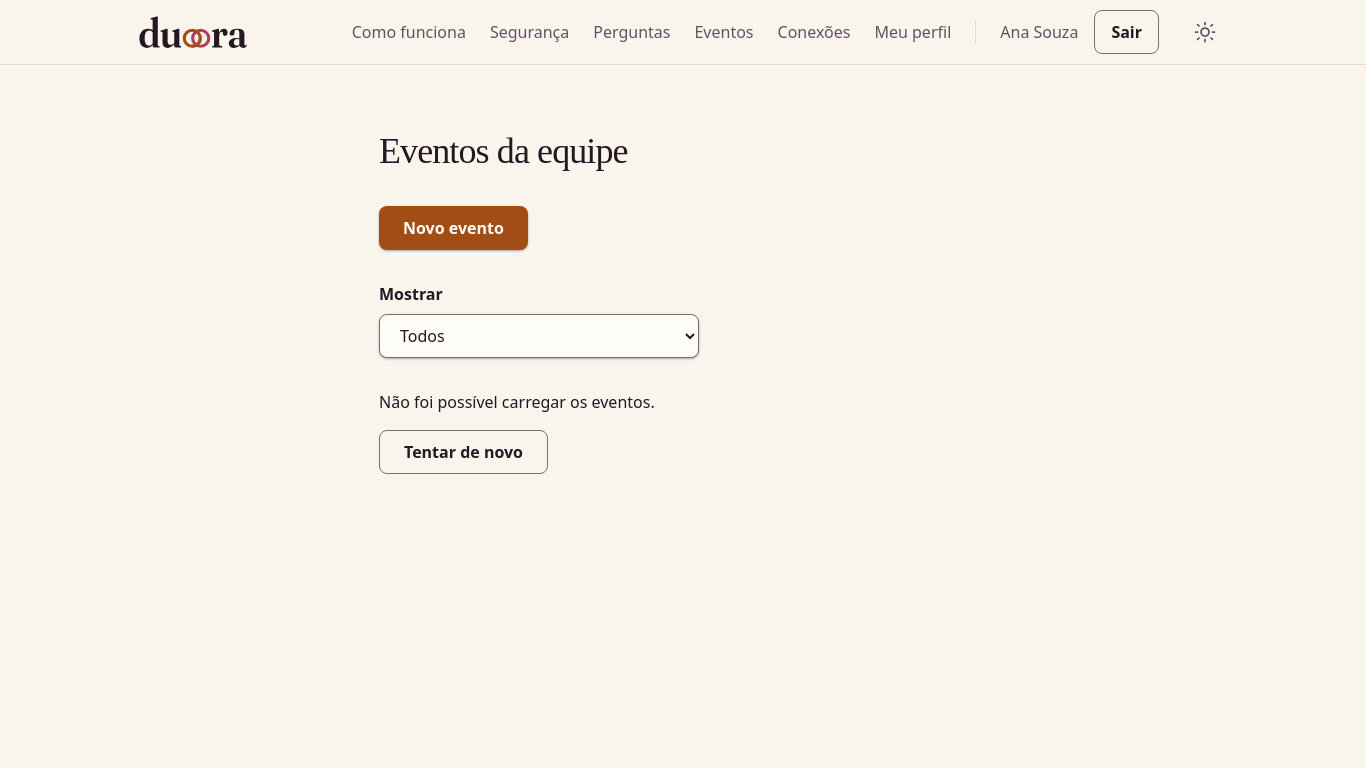
Test: admin events page › offers to try again when the events could not be read
Expected: the text "Não foi possível carregar os eventos." is shown, [379,390,655,414]
Click the button "Tentar de novo".
click(464, 452)  # box [379,430,548,474]
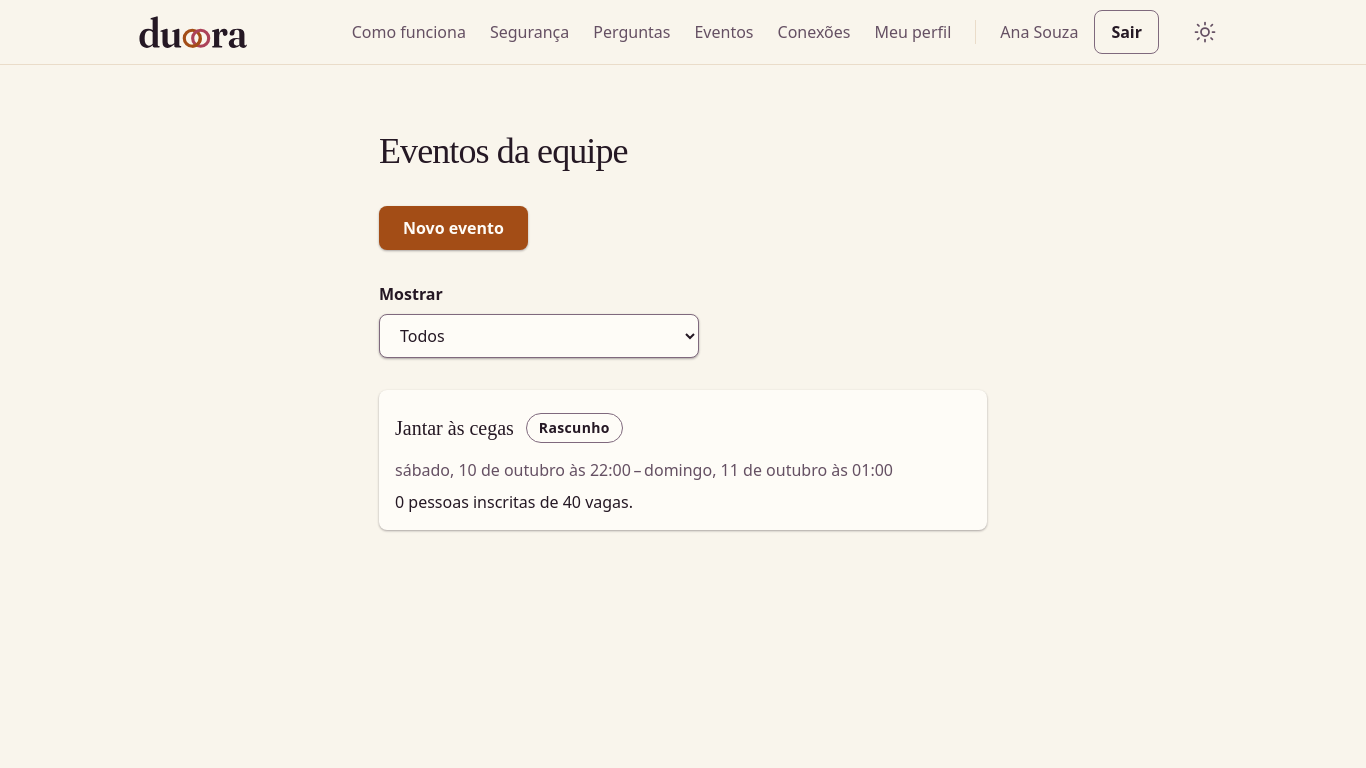
Now the link "Jantar às cegas" is shown, box [395,417,514,439]
